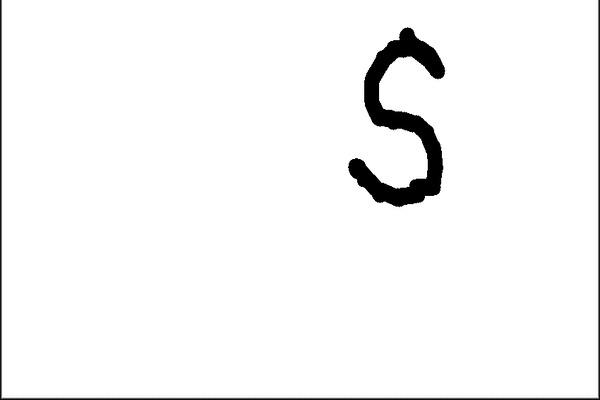S: (343, 19, 458, 220)
